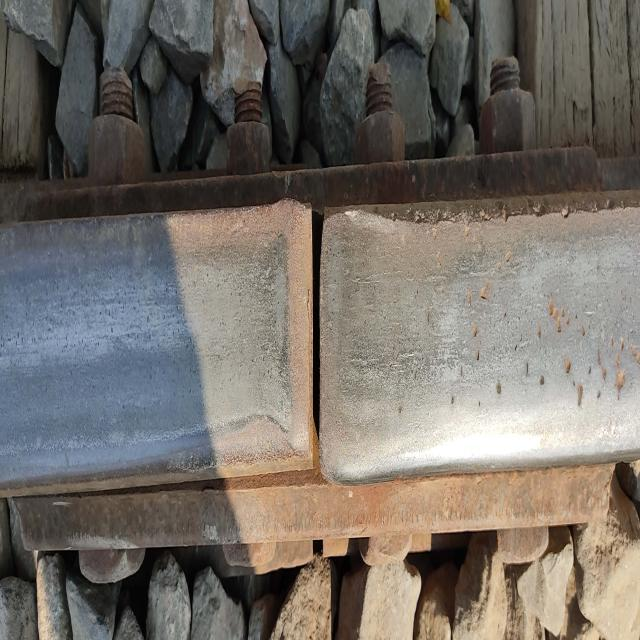Good Joint: (19, 46, 612, 594)
